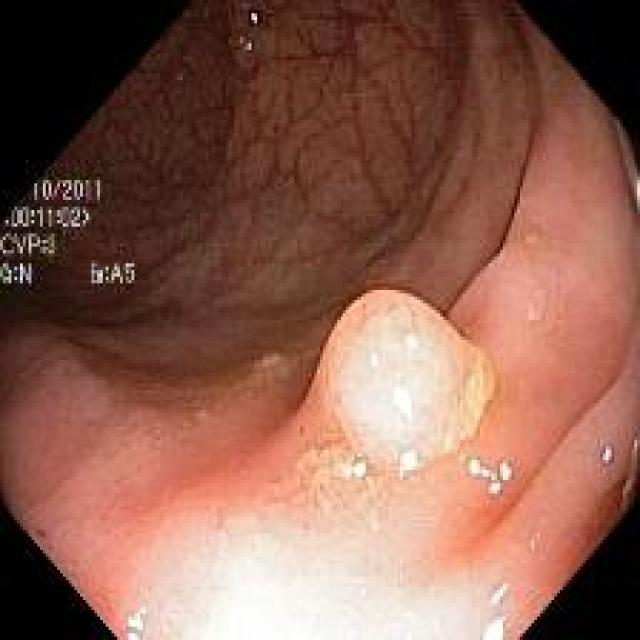Polyps: (320, 290, 495, 472)
